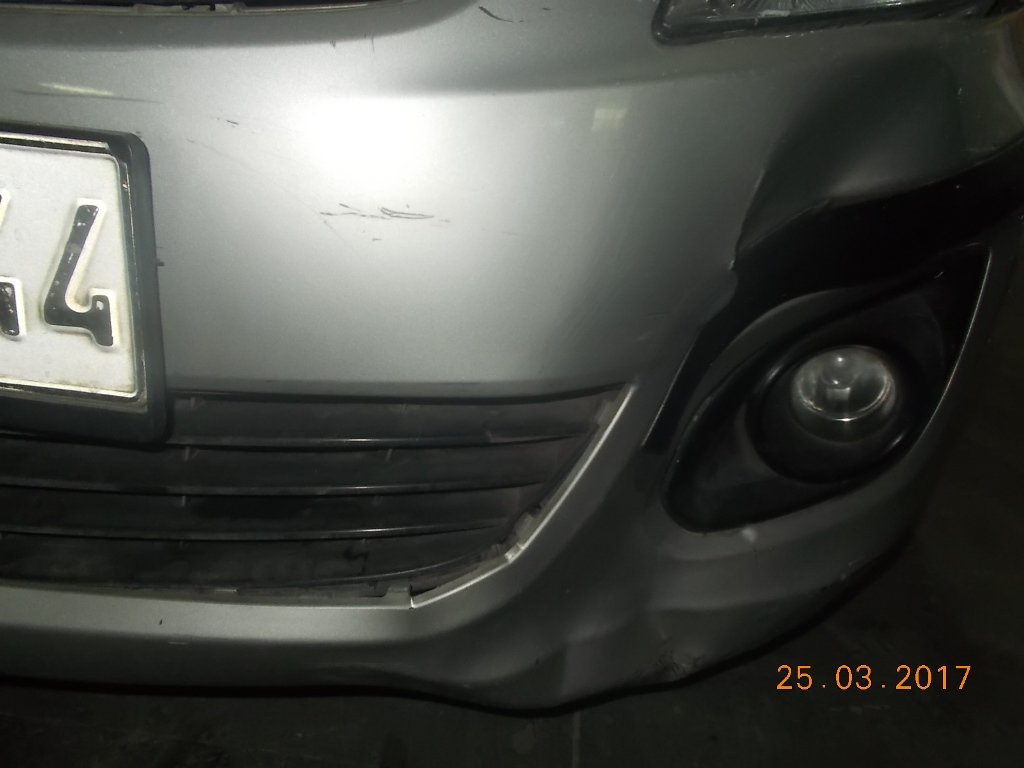Scratch_or_spot: (327, 197, 441, 245)
